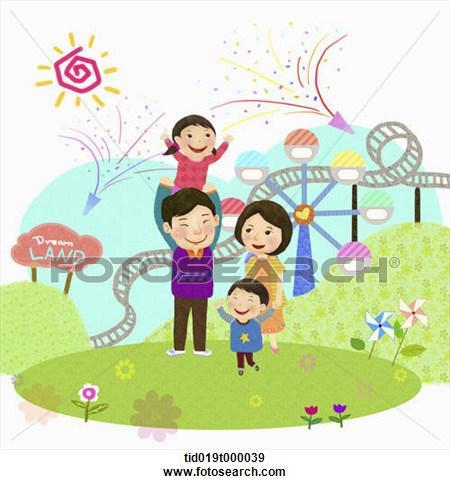person: (148, 179, 228, 361), (226, 200, 301, 361), (216, 275, 277, 378), (157, 108, 232, 191)
